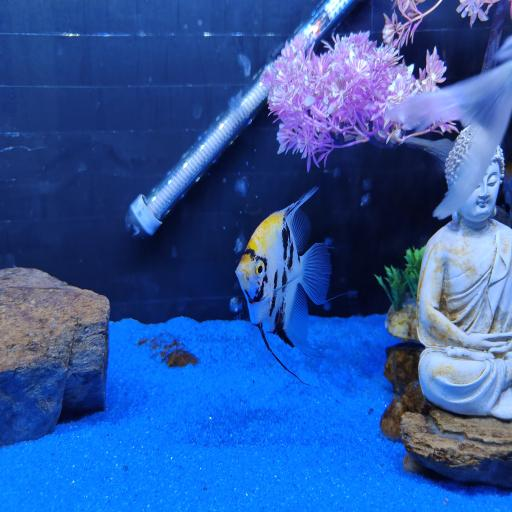Fish: (389, 37, 511, 218), (236, 188, 331, 379)
